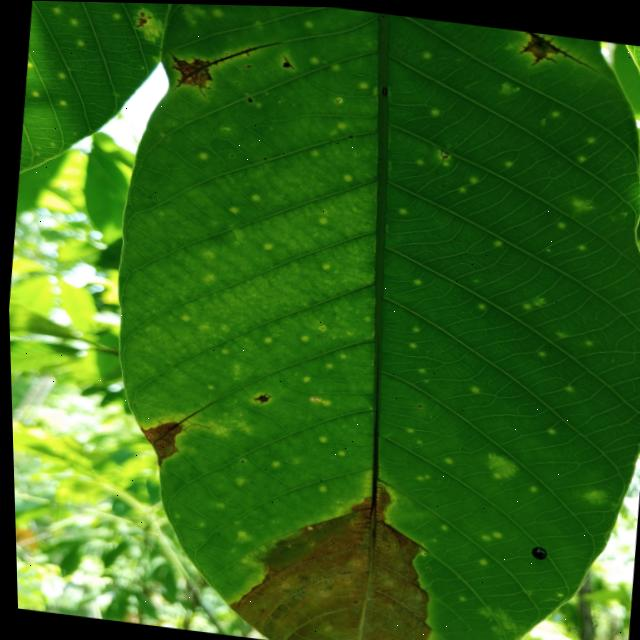Colletotrichum: (526, 542, 544, 558)
Corynespora: (160, 26, 280, 111), (510, 27, 601, 72), (250, 390, 269, 404), (280, 52, 295, 67)
Leaf-Blight: (218, 464, 444, 640), (134, 418, 179, 467)
